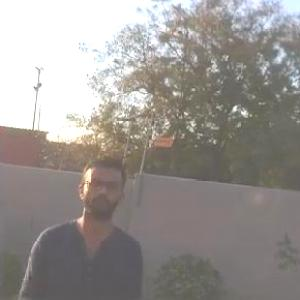follow: (14, 150, 148, 299)
